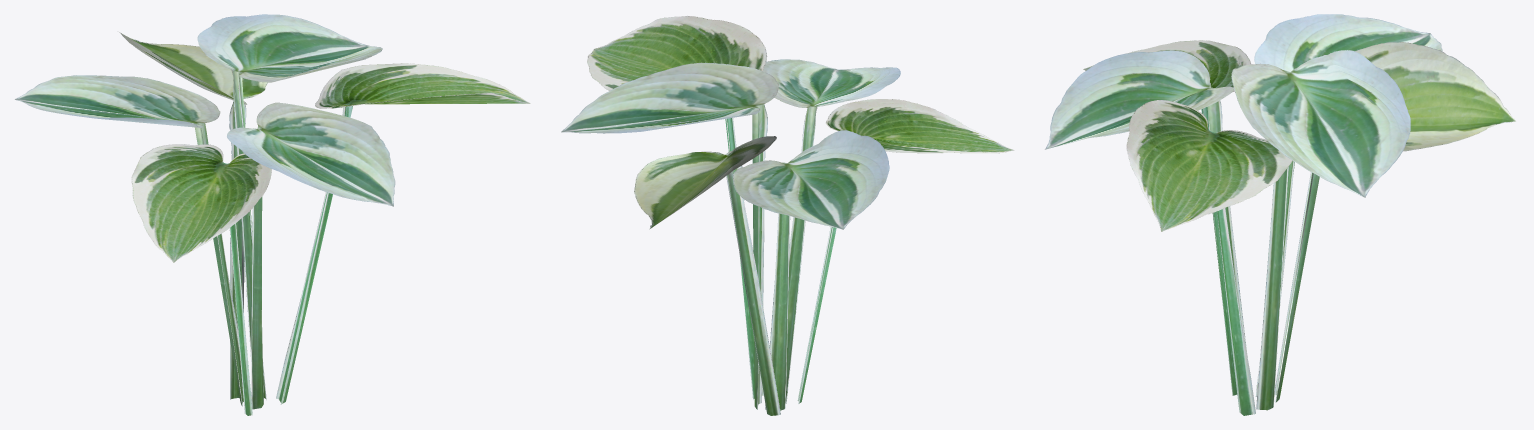
Rendered from plant_small_wg_00G.fbx.
The picture shows the model from 3 angles, left to right: view 1: azimuth 30°, elevation 25°; view 2: azimuth 150°, elevation 25°; view 3: azimuth 270°, elevation 25°; orthographic projection. The views are drawn at different scales.
Visible parts, largest first — view 1: plant_small_wg_00G; view 2: plant_small_wg_00G; view 3: plant_small_wg_00G.
Part boxes in pixels (box(x1,y1,x2,y2)): plant_small_wg_00G: box(15, 14, 530, 415); plant_small_wg_00G: box(561, 16, 1013, 415); plant_small_wg_00G: box(1045, 14, 1515, 415).
Bounding box in the file's own units: 54.53 × 44.15 × 53.77.
Materials: 1 (1 with a texture image).
